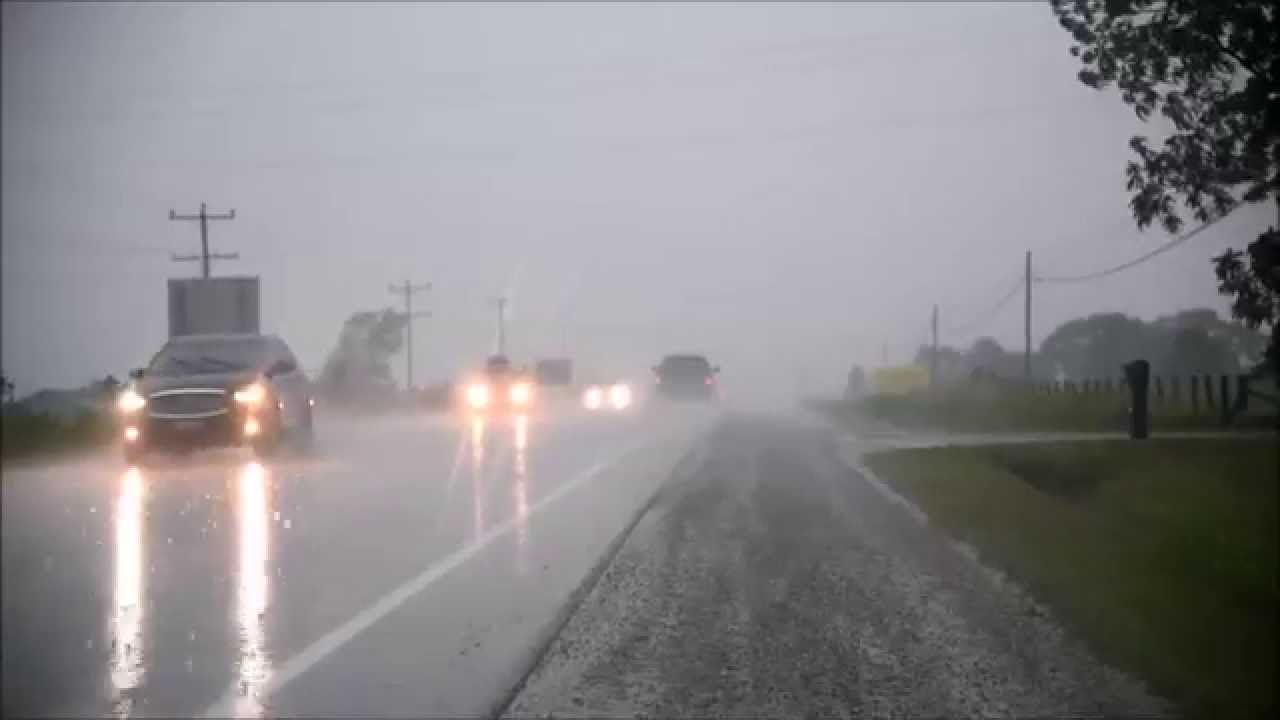car: (132, 333, 314, 446), (460, 367, 535, 415), (652, 356, 722, 403), (585, 376, 632, 410)
